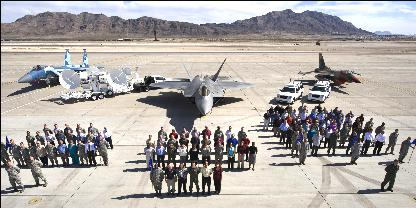F117: (16, 48, 104, 86)
F14: (296, 51, 362, 86)
F18: (147, 56, 255, 114)
